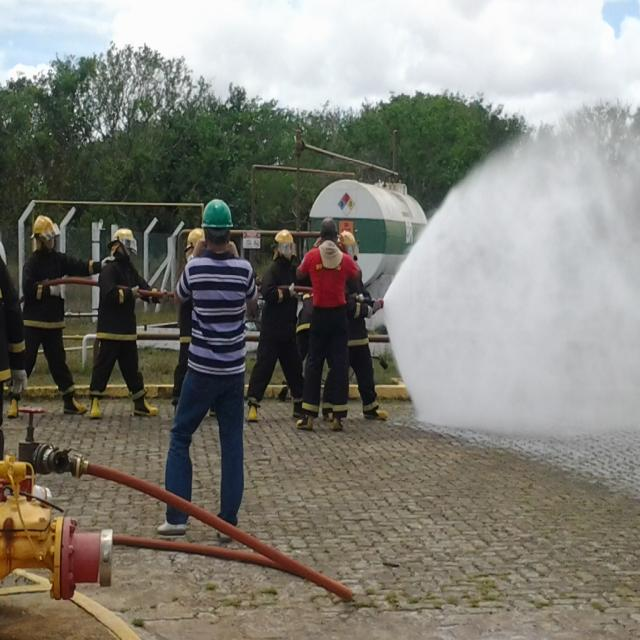no_fire: (18, 47, 627, 637)
